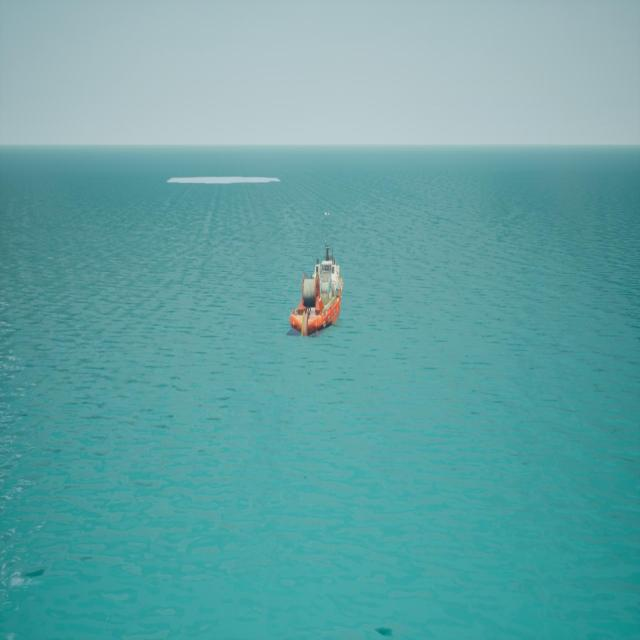tug boat: (290, 223, 345, 341)
